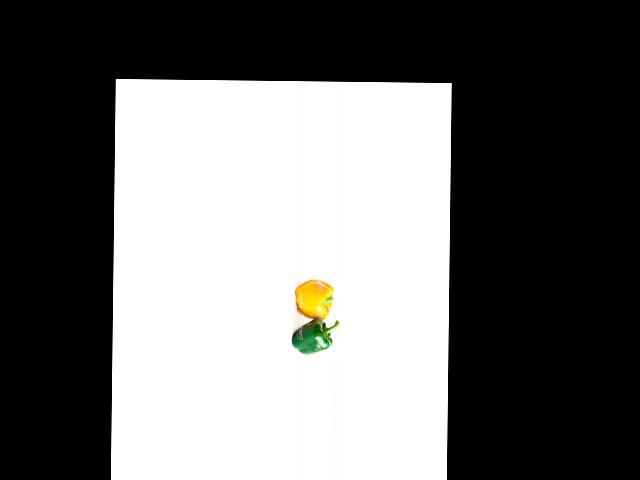bell_pepper: (285, 319, 335, 358)
